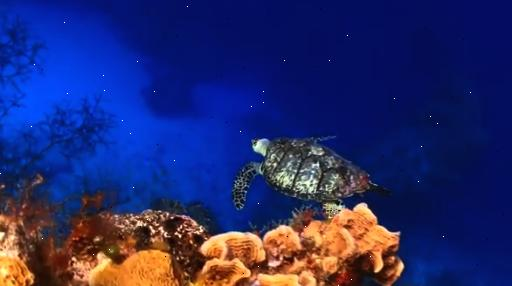Fish: (233, 138, 389, 217)
